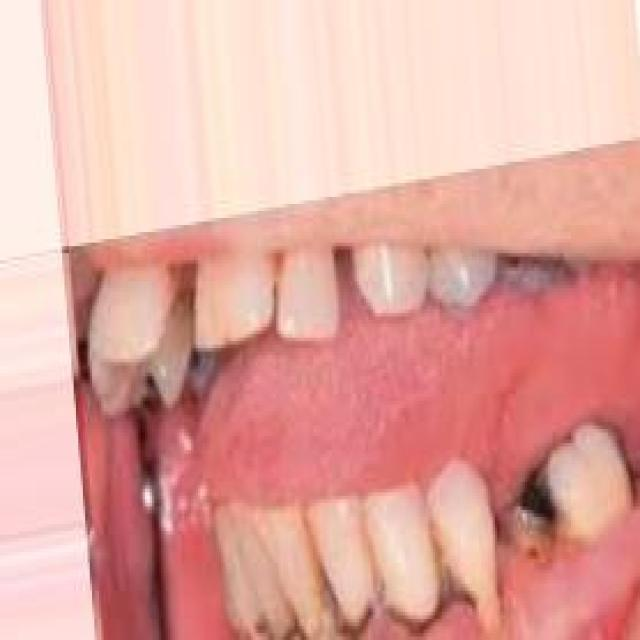caries: (507, 458, 593, 571)
